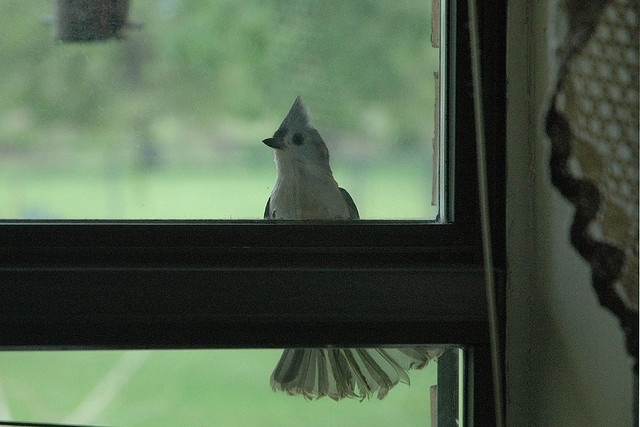bird: (257, 92, 640, 427)
